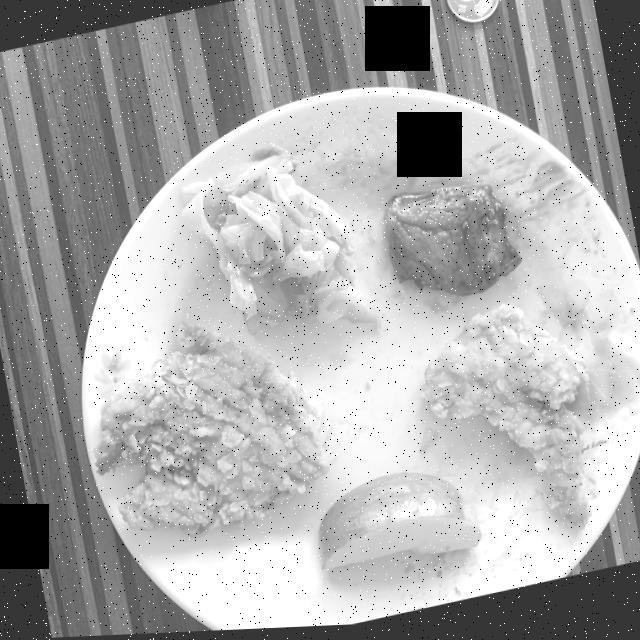apple -sliced-: (318, 476, 481, 572)
cabbage: (180, 145, 378, 335)
coin: (446, 0, 499, 26)
creamy tofu: (383, 188, 521, 300)
fried chicken cutlet: (94, 324, 329, 539), (419, 308, 591, 533)
